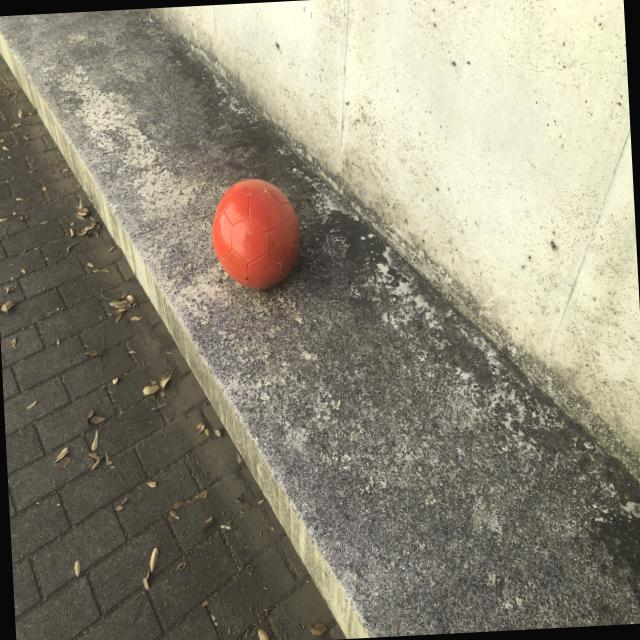red_ball: (209, 174, 304, 294)
